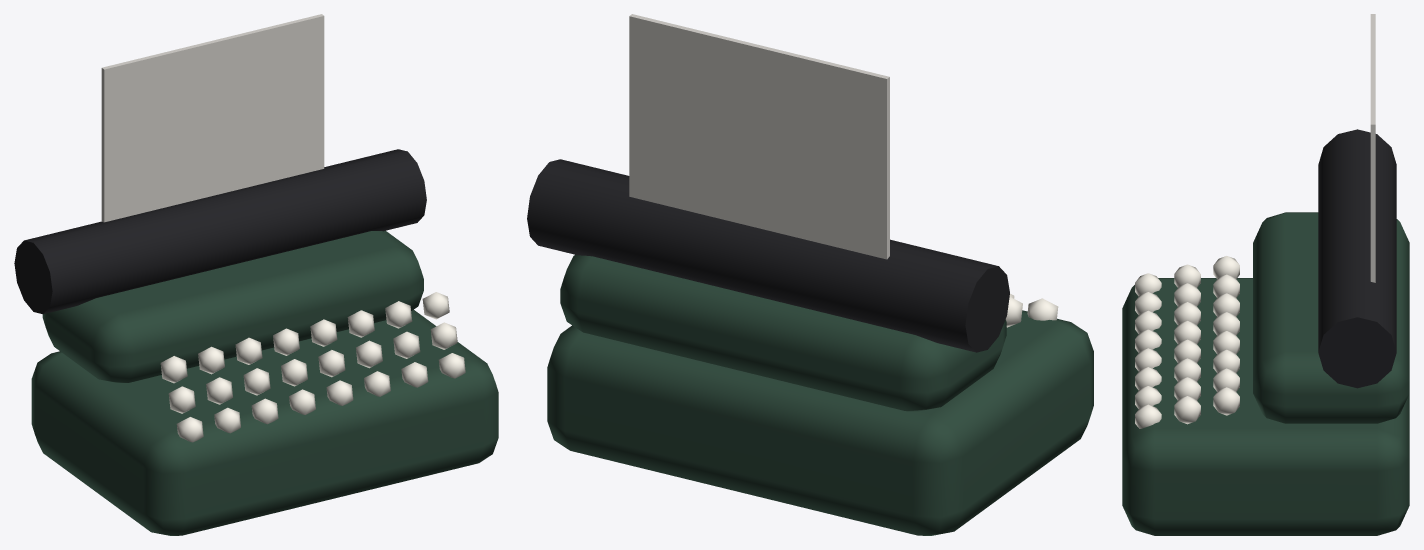
The model's file is furn_typewriter.glb.
3 views of the same model, side by side, from view 1: azimuth 30°, elevation 25°; view 2: azimuth 150°, elevation 25°; view 3: azimuth 270°, elevation 25° (orthographic). The views are drawn at different scales.
Visible parts, largest first — view 1: furn_typewriter_main, furn_typewriter_gloss; view 2: furn_typewriter_main, furn_typewriter_gloss; view 3: furn_typewriter_main, furn_typewriter_gloss.
Part boxes in pixels (<box>): furn_typewriter_main: <box>14,14,498,535</box>; furn_typewriter_gloss: <box>160,292,465,442</box>; furn_typewriter_main: <box>527,14,1093,535</box>; furn_typewriter_gloss: <box>1005,293,1058,327</box>; furn_typewriter_main: <box>1122,14,1409,535</box>; furn_typewriter_gloss: <box>1135,256,1239,428</box>.
Size of the model in its own units: 0.34 by 0.33 by 0.22.
